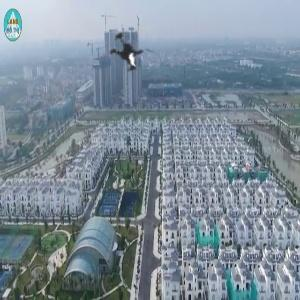drone: (78, 7, 172, 101)
